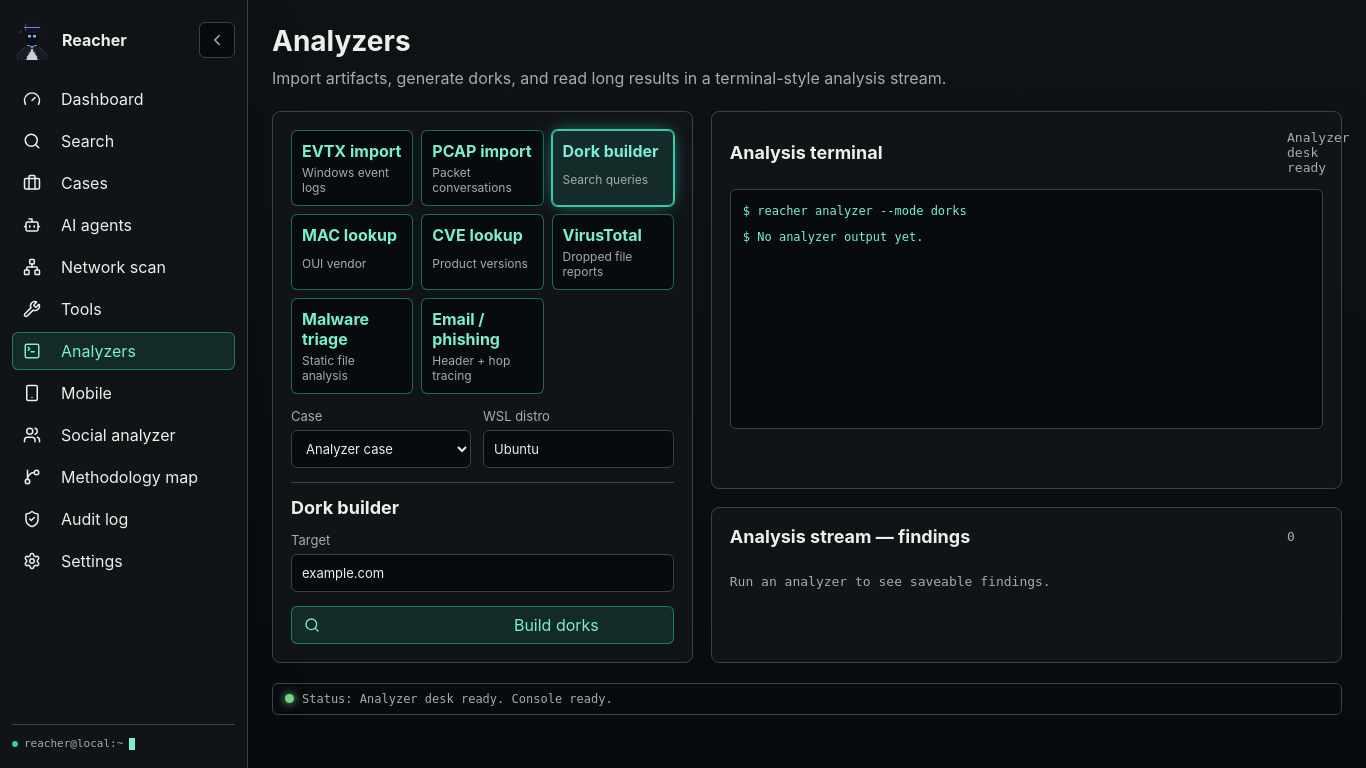
analyzers route builds dorks and saves findings through IPC so query generation stays main-owned
What coordinates should you click on to do the following:
click the button "Build dorks"
I would click on:
 (556, 625)
Its box is [291,606,674,644].
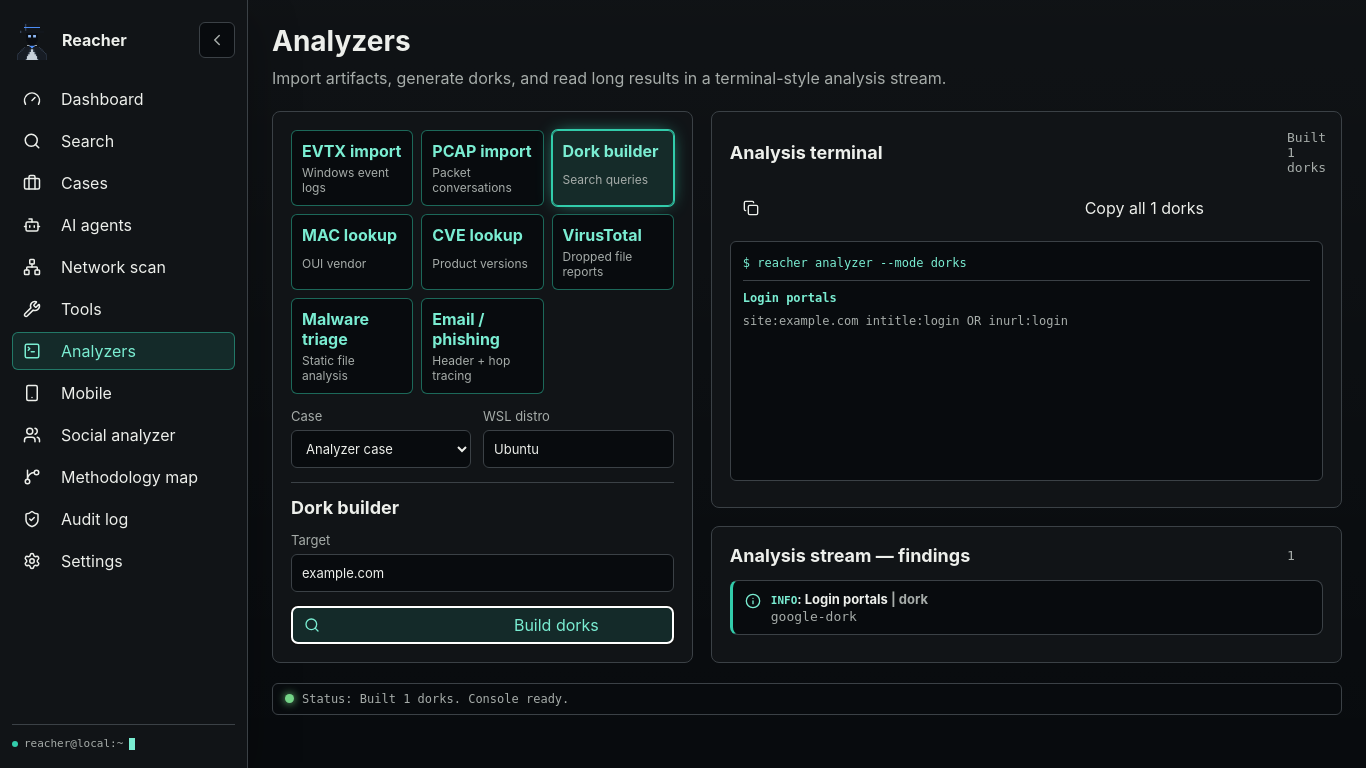
Now the text "site:example.com intitle:login OR inurl:login" is shown, box [743,314,1068,328]
Now the text "google-dork" is shown, box [771,609,857,624]
Now the text "| dork" is shown, box [891,591,928,607]
